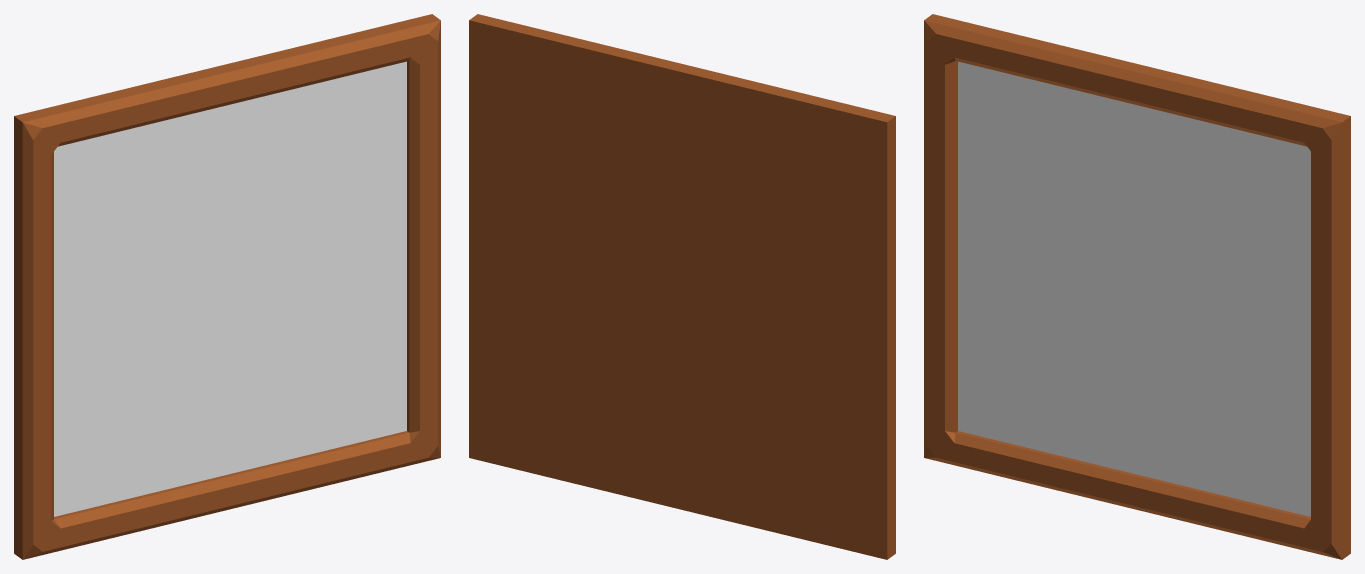
The model's file is pictureframe.fbx.
3 views of the same model, side by side, from view 1: azimuth 30°, elevation 25°; view 2: azimuth 150°, elevation 25°; view 3: azimuth 330°, elevation 25° (orthographic).
Visible parts, largest first — view 1: Cube; view 2: Cube; view 3: Cube.
Boxes of the visible parts, x1,y1,x2,y2 form: Cube: (14,14,440,559); Cube: (469,14,895,559); Cube: (924,14,1350,559).
Bounding box in the file's own units: 200 × 200 × 10.33.
